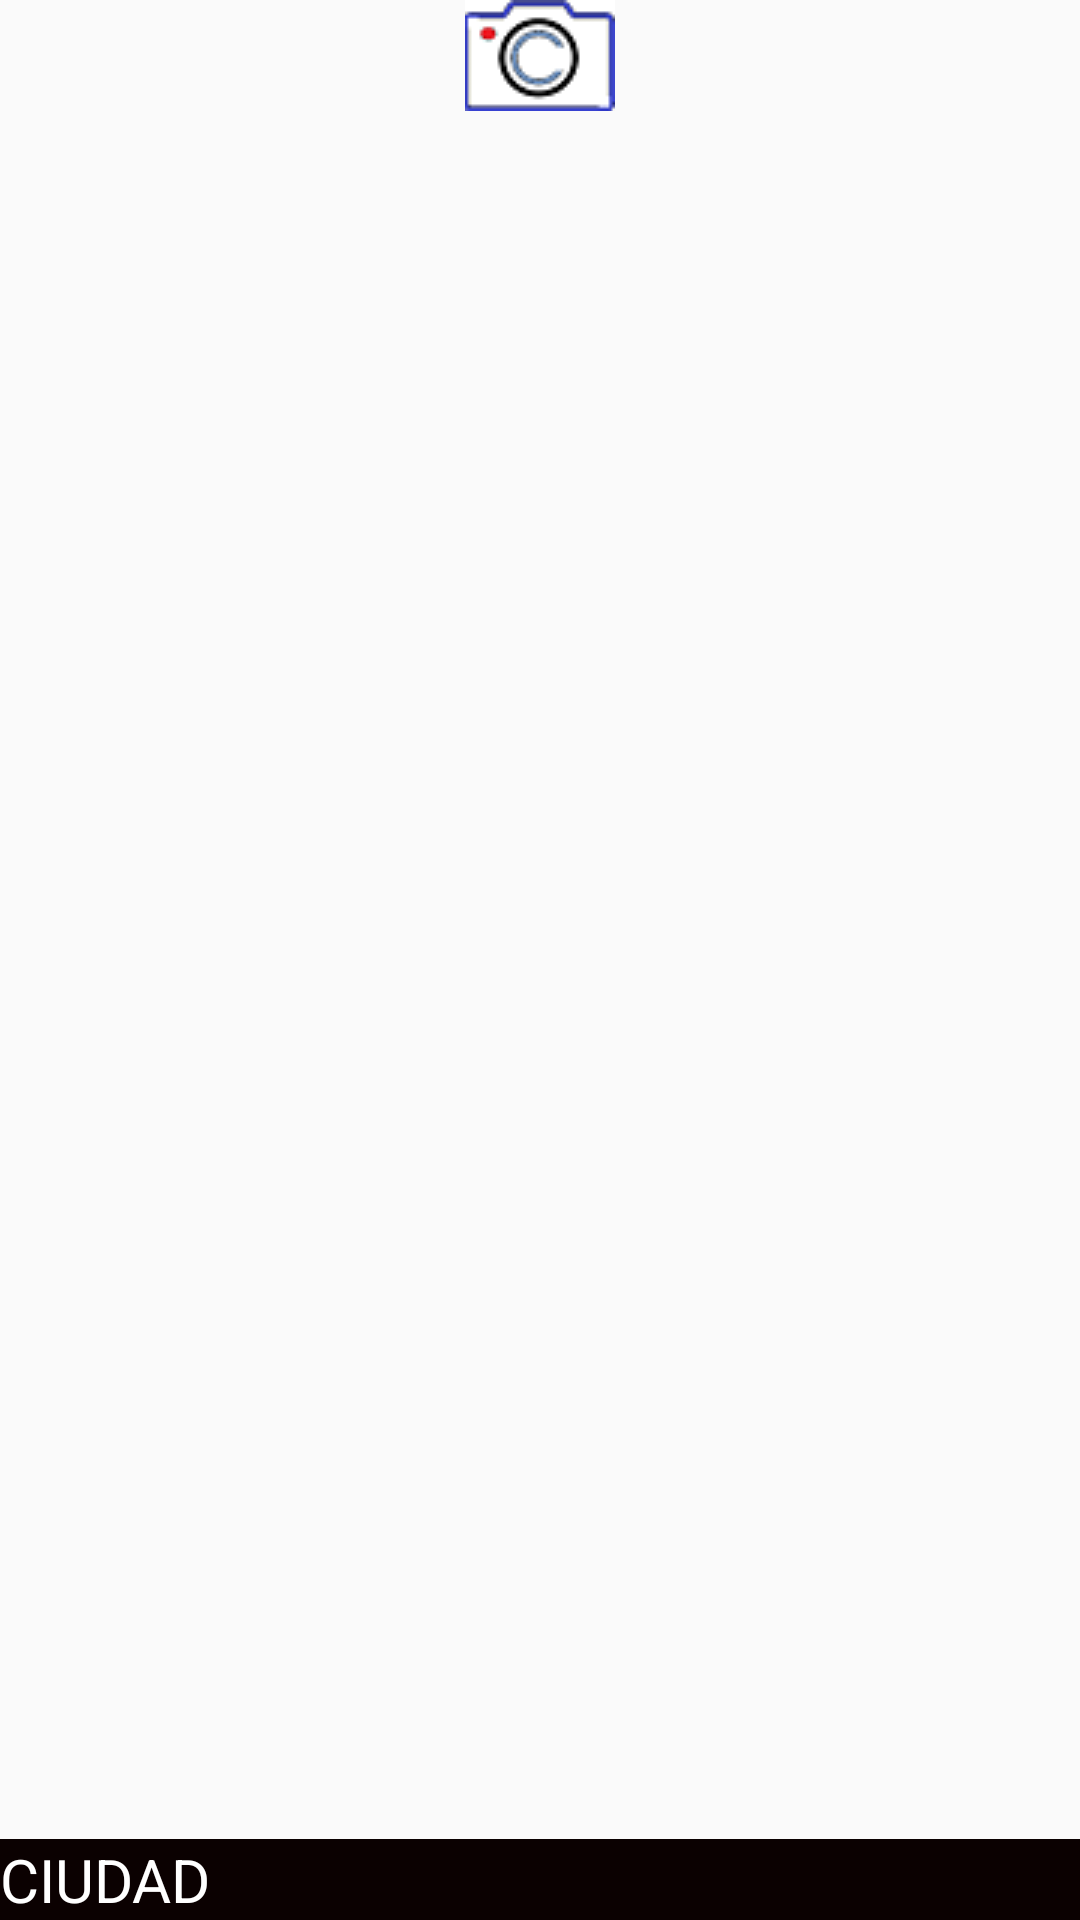

Icon bounding boxes for this 1080 × 1920 phone screenshot, format [left=x1, top=y1, right=x2, bottom=y2]:
camarita: [left=465, top=0, right=615, bottom=111]
